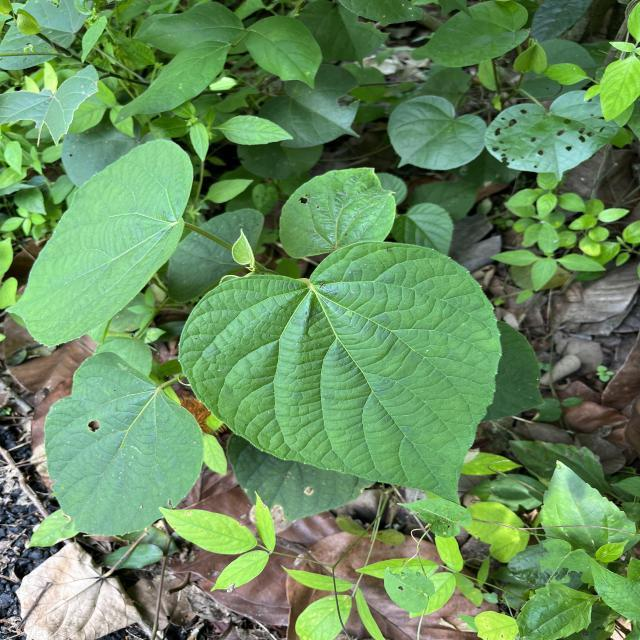Clerodendrum infortunatum: (175, 238, 503, 512), (4, 136, 198, 350), (42, 348, 208, 538), (278, 164, 398, 260)
